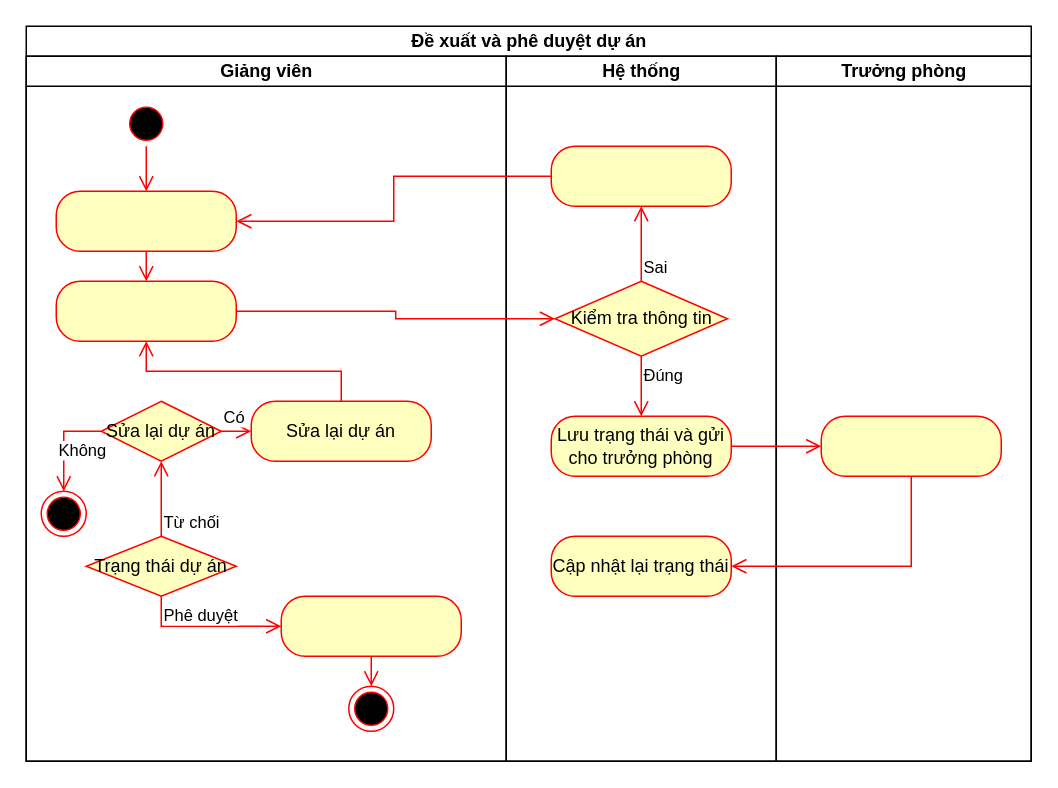
This 1058x788 diagram has some shape labels left out. The centre of each missing label's shape, as x and y in pixels:
"Công bố dự án" belongs at (x=370, y=625).
"Nhấn gửi phê duyệt" belongs at (x=145, y=310).
"Thông báo lỗi" belongs at (x=640, y=175).
"Tạo dự án ( tên, mô tả, thời hạn)" belongs at (x=145, y=220).
"Xem/Phê duyệt/từ chối dự án" belongs at (x=910, y=445).
